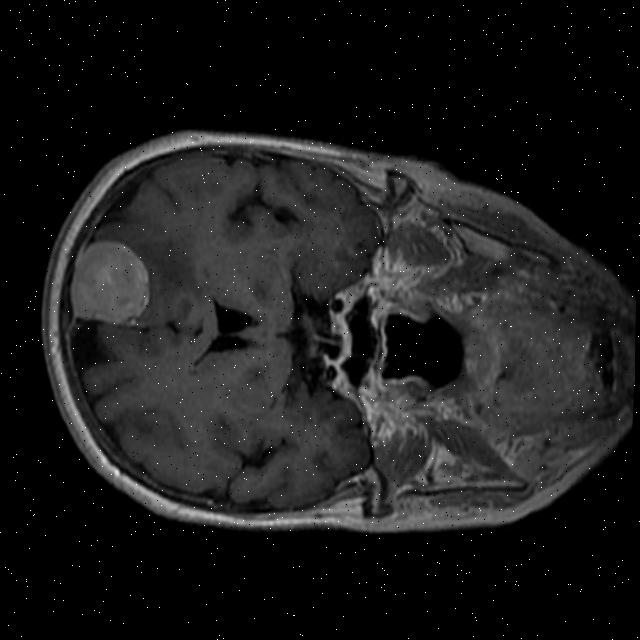Meningioma: (67, 235, 153, 328)
